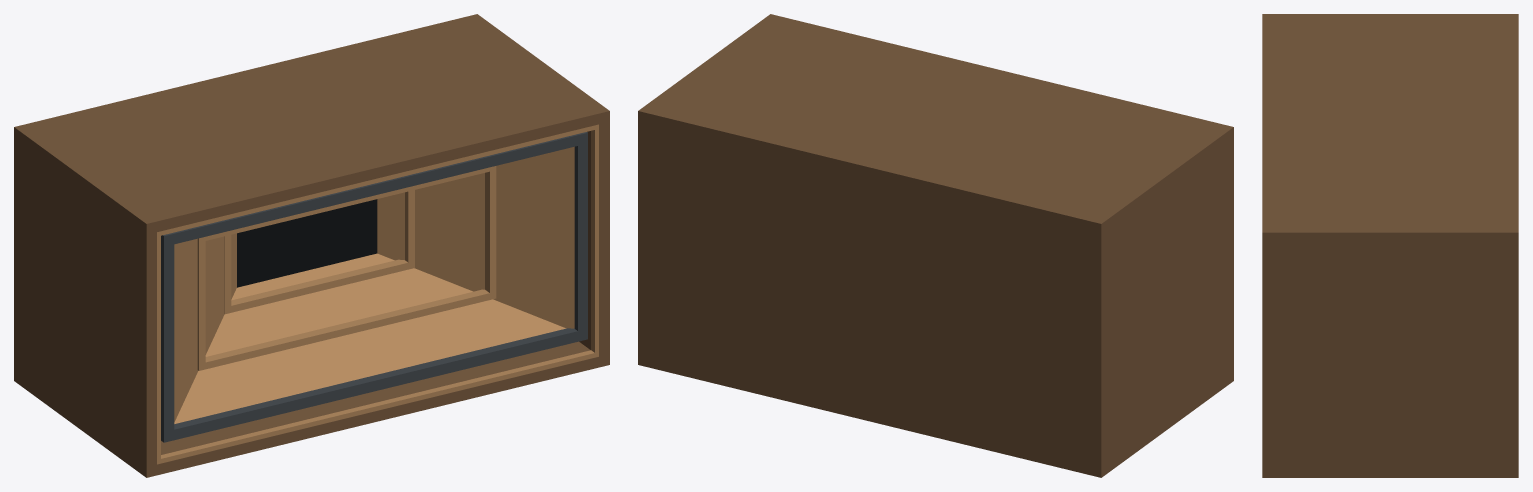
File: mid-horn.glb
3 views of the same model, side by side, from view 1: azimuth 30°, elevation 25°; view 2: azimuth 150°, elevation 25°; view 3: azimuth 270°, elevation 25° (orthographic). The views are drawn at different scales.
Visible parts, largest first — view 1: CabinetTop, HornFlare, CabinetLeft, HornFrameBottom (×3), Cabinet, Baffle, HornFrameTop (×2), HornFrameRight (×3), FrontTrimBottom, HornFrameLeft (×2), CabinetRight, FrontTrimTop (+2 smaller); view 2: CabinetBack, CabinetTop, CabinetLeft, Cabinet, CabinetRight; view 3: CabinetTop, CabinetRight, Cabinet.
Part boxes in pixels (x1,y1,x2,y2): CabinetTop: [14, 14, 609, 234]; HornFlare: [174, 146, 574, 423]; CabinetLeft: [14, 138, 156, 466]; HornFrameBottom (×3): [161, 259, 587, 442]; Cabinet: [14, 341, 609, 477]; Baffle: [237, 199, 377, 287]; HornFrameTop (×2): [161, 132, 587, 246]; HornFrameRight (×3): [405, 143, 587, 330]; FrontTrimBottom: [157, 350, 599, 464]; HornFrameLeft (×2): [161, 241, 205, 431]; CabinetRight: [579, 122, 609, 356]; FrontTrimTop: [157, 124, 599, 236]; CabinetBack: [648, 124, 1090, 464]; CabinetTop: [638, 14, 1233, 234]; CabinetLeft: [1091, 138, 1233, 466]; Cabinet: [638, 354, 1233, 477]; CabinetRight: [638, 122, 648, 356]; CabinetTop: [1262, 14, 1518, 242]; CabinetRight: [1262, 243, 1518, 467]; Cabinet: [1262, 467, 1518, 477].
Bounding box in the file's own units: 1.05 × 0.55 × 0.52.
